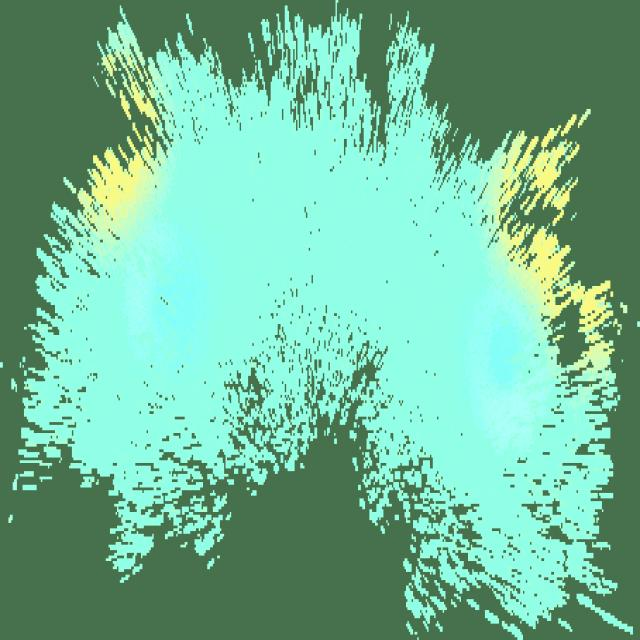Background Image: (1, 0, 636, 635)
Text Elements: (100, 275, 539, 635)
